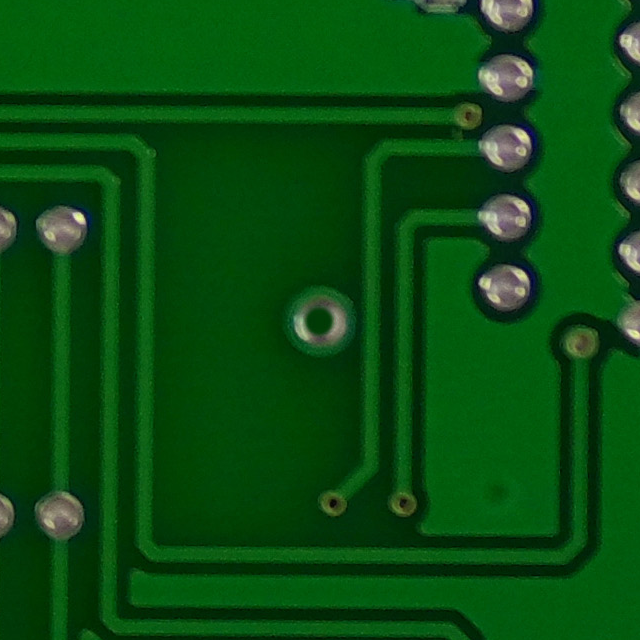missing_hole: (288, 286, 352, 355)
